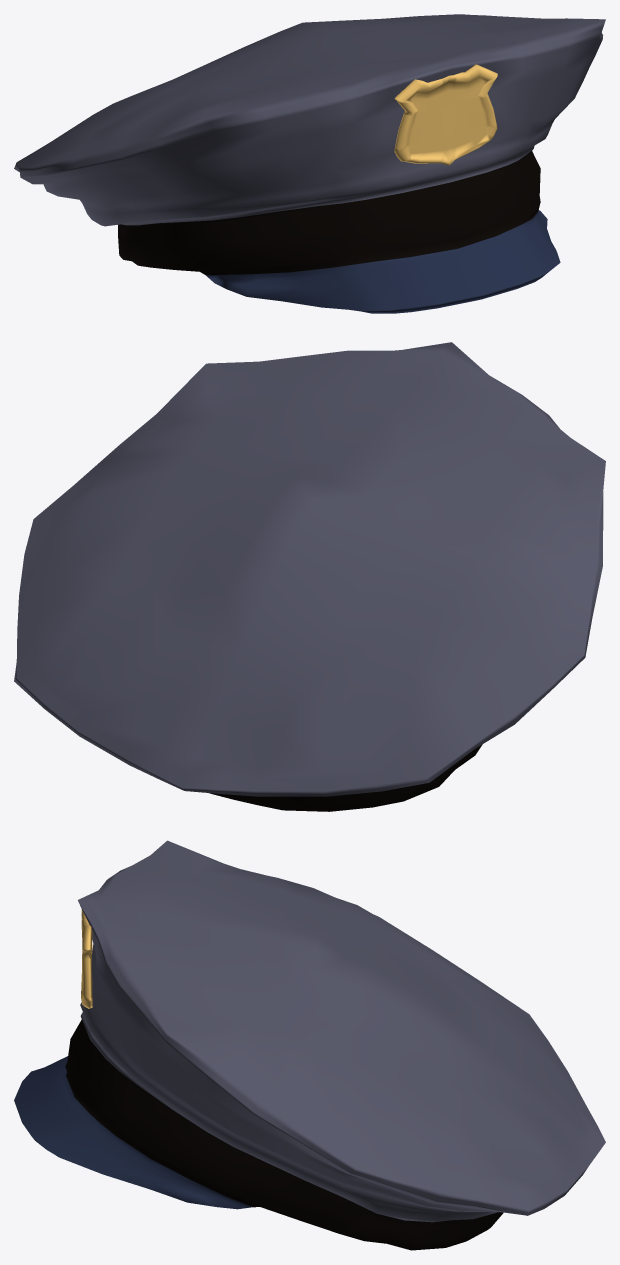
Rendered from PolliceHat.fbx.
3 views of the same model, one above another, from view 1: azimuth 30°, elevation 25°; view 2: azimuth 150°, elevation 25°; view 3: azimuth 270°, elevation 25° (orthographic). The views are drawn at different scales.
Parts seen in each view (by area): view 1: hat; view 2: hat; view 3: hat.
Boxes of the visible parts, left/top/right/bottom form: hat: left=14, top=14, right=605, bottom=313; hat: left=14, top=342, right=605, bottom=811; hat: left=14, top=840, right=605, bottom=1250.
Bounding box in the file's own units: 28.97 × 15.01 × 27.57.
